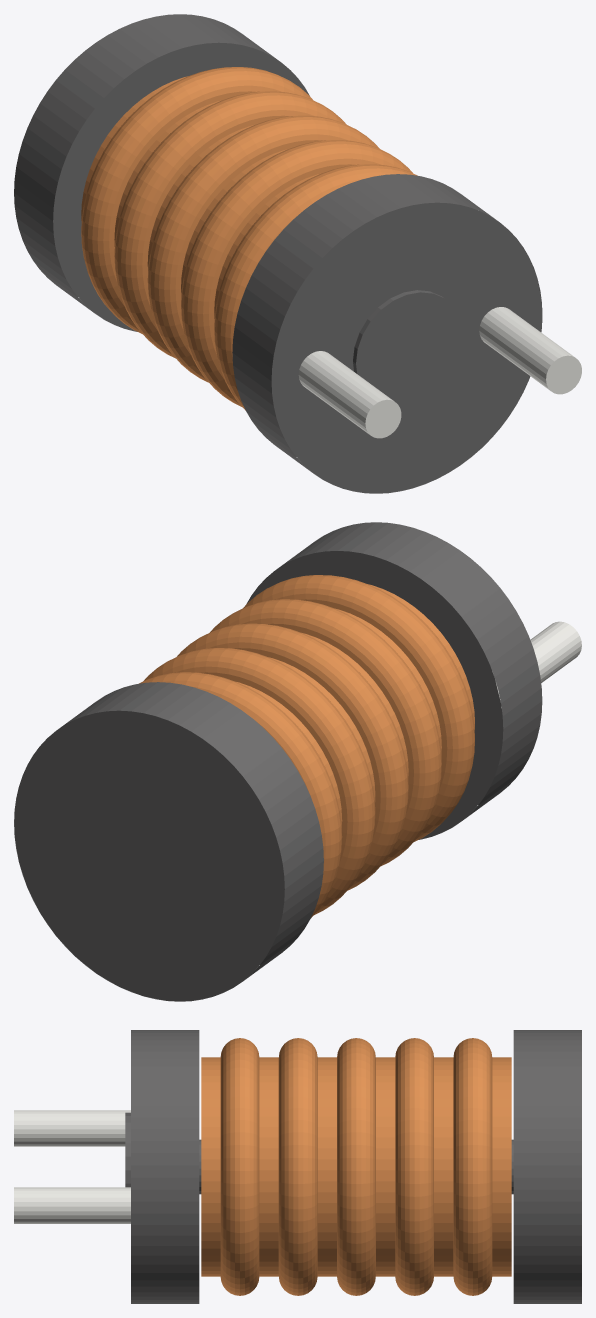
The model's file is L_Radial_D7.5mm_P5.00mm_Fastron_07P.glb.
The picture shows the model from 3 angles, top to bottom: view 1: azimuth 30°, elevation 25°; view 2: azimuth 150°, elevation 25°; view 3: azimuth 270°, elevation 25°; orthographic projection. The views are drawn at different scales.
Visible parts, largest first — view 1: Shape_IndexedFaceSet.009, Shape_IndexedFaceSet.007, Shape_IndexedFaceSet.025, Shape_IndexedFaceSet.020, Shape_IndexedFaceSet.006, Shape_IndexedFaceSet.010, Shape_IndexedFaceSet.018, Shape_IndexedFaceSet.024, Shape_IndexedFaceSet.016, Shape_IndexedFaceSet.002, Shape_IndexedFaceSet.011, Shape_IndexedFaceSet.013 (+7 smaller); view 2: Shape_IndexedFaceSet.026, Shape_IndexedFaceSet.025, Shape_IndexedFaceSet.007, Shape_IndexedFaceSet.002, Shape_IndexedFaceSet.006, Shape_IndexedFaceSet.010, Shape_IndexedFaceSet.018, Shape_IndexedFaceSet.005, Shape_IndexedFaceSet.020, Shape_IndexedFaceSet.013, Shape_IndexedFaceSet.008, Shape_IndexedFaceSet.014 (+3 smaller); view 3: Shape_IndexedFaceSet.007, Shape_IndexedFaceSet.025, Shape_IndexedFaceSet.006, Shape_IndexedFaceSet.020, Shape_IndexedFaceSet.002, Shape_IndexedFaceSet.010, Shape_IndexedFaceSet.018, Shape_IndexedFaceSet, Shape_IndexedFaceSet.004, Shape_IndexedFaceSet.008, Shape_IndexedFaceSet.014, Shape_IndexedFaceSet.019 (+4 smaller).
Part boxes in pixels (x1,y1,x2,y2): Shape_IndexedFaceSet.009: (271,202,541,493); Shape_IndexedFaceSet.007: (232,174,542,493); Shape_IndexedFaceSet.025: (14,14,308,331); Shape_IndexedFaceSet.020: (81,67,312,333); Shape_IndexedFaceSet.006: (181,140,412,406); Shape_IndexedFaceSet.010: (147,115,379,382); Shape_IndexedFaceSet.018: (114,91,346,358); Shape_IndexedFaceSet.024: (53,42,309,330); Shape_IndexedFaceSet.016: (356,292,463,408); Shape_IndexedFaceSet.002: (214,164,417,410); Shape_IndexedFaceSet.011: (479,307,574,390); Shape_IndexedFaceSet.013: (298,351,393,434); Shape_IndexedFaceSet.026: (14,710,284,1001); Shape_IndexedFaceSet.025: (14,682,323,1001); Shape_IndexedFaceSet.007: (247,522,542,839); Shape_IndexedFaceSet.002: (243,575,474,841); Shape_IndexedFaceSet.006: (210,599,441,866); Shape_IndexedFaceSet.010: (177,623,408,890); Shape_IndexedFaceSet.018: (144,648,375,914); Shape_IndexedFaceSet.005: (247,551,503,839); Shape_IndexedFaceSet.020: (139,672,342,917); Shape_IndexedFaceSet.013: (492,621,581,707); Shape_IndexedFaceSet.008: (302,633,408,777); Shape_IndexedFaceSet.014: (269,657,375,801); Shape_IndexedFaceSet.007: (131,1030,199,1303); Shape_IndexedFaceSet.025: (513,1030,581,1303); Shape_IndexedFaceSet.006: (278,1038,317,1295); Shape_IndexedFaceSet.020: (453,1038,492,1295); Shape_IndexedFaceSet.002: (220,1038,259,1295); Shape_IndexedFaceSet.010: (337,1038,375,1295); Shape_IndexedFaceSet.018: (395,1038,433,1295); Shape_IndexedFaceSet: (201,1057,220,1276); Shape_IndexedFaceSet.004: (259,1057,278,1276); Shape_IndexedFaceSet.008: (317,1057,336,1276); Shape_IndexedFaceSet.014: (376,1057,395,1276); Shape_IndexedFaceSet.019: (434,1057,453,1276).
Size of the model in its own units: 2.95 by 2.95 by 6.12.
